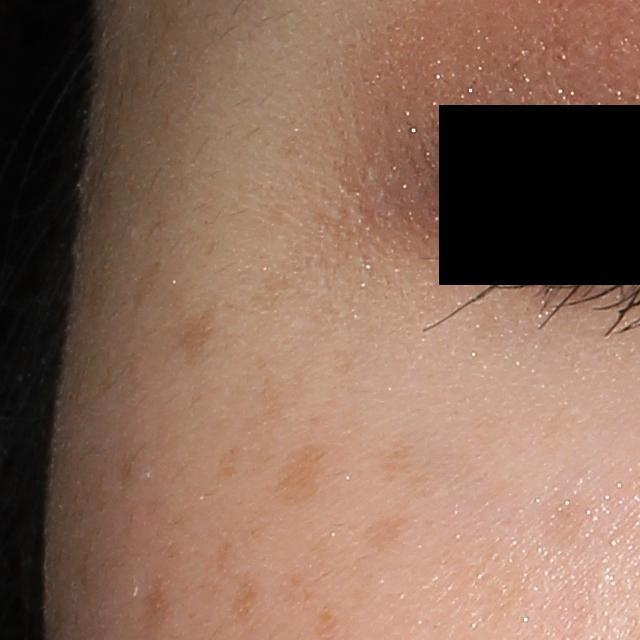melasma: (375, 439, 476, 496), (161, 292, 227, 371), (272, 432, 338, 508), (362, 510, 417, 558), (249, 269, 301, 314), (225, 572, 264, 626), (139, 578, 168, 635), (217, 446, 243, 479)
